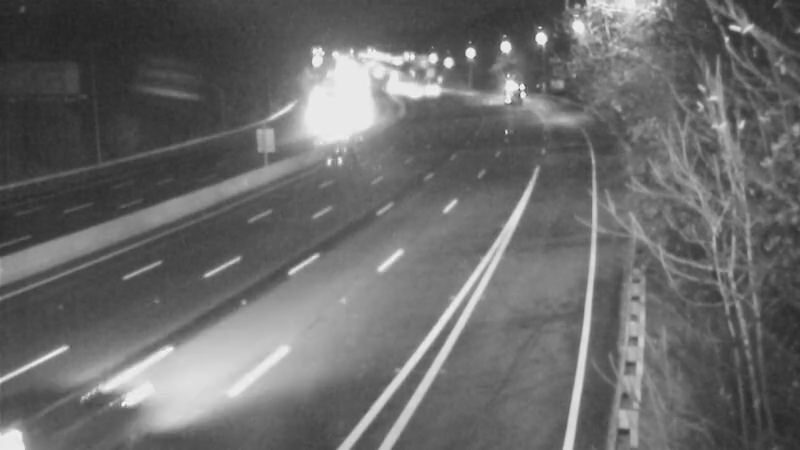vehicle: (1, 358, 106, 450), (483, 61, 533, 111)
